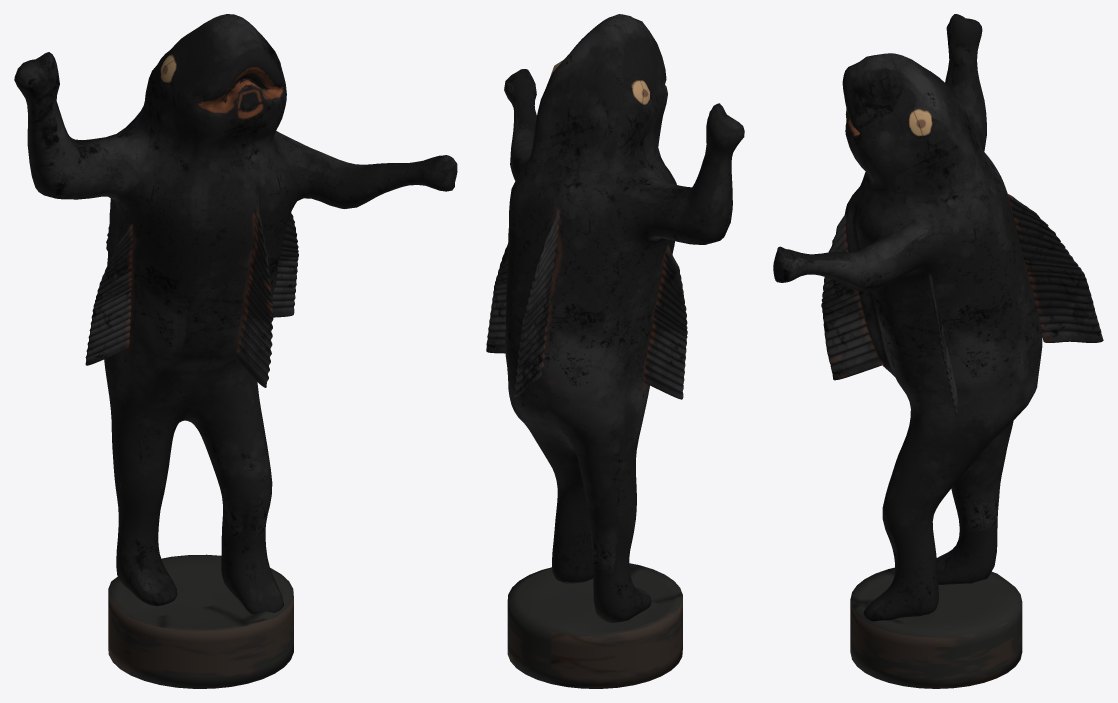
The model's file is Homme requin.fbx.
3 renders of one model, left to right at view 1: azimuth 30°, elevation 25°; view 2: azimuth 150°, elevation 25°; view 3: azimuth 270°, elevation 25°, orthographic. The views are drawn at different scales.
Visible parts, largest first — view 1: Homme_poisson_low, Cylinder.033, écailles_low; view 2: Homme_poisson_low, Cylinder.033, écailles_low; view 3: Homme_poisson_low, Cylinder.033, écailles_low.
Boxes of the visible parts, <box> form: Homme_poisson_low: <box>14,14,457,614</box>; Cylinder.033: <box>108,554,293,688</box>; écailles_low: <box>85,205,298,387</box>; Homme_poisson_low: <box>504,14,744,622</box>; Cylinder.033: <box>507,563,682,688</box>; écailles_low: <box>486,209,687,399</box>; Homme_poisson_low: <box>773,14,1042,621</box>; Cylinder.033: <box>850,567,1022,688</box>; écailles_low: <box>821,194,1103,421</box>.
Bounding box in the file's own units: 225 × 403 × 201.
Materials: 2 (2 with a texture image).
